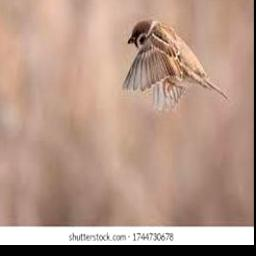Sparrow: (123, 19, 229, 113)
